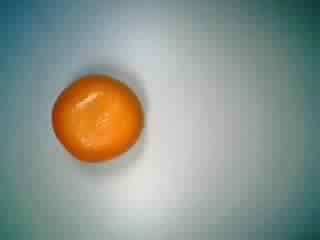orange: (49, 69, 145, 165)
